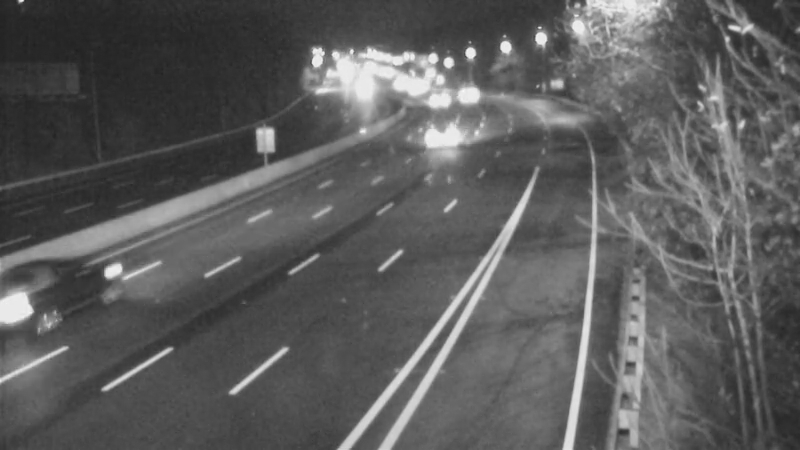vehicle: (6, 245, 86, 325), (444, 68, 494, 118), (411, 70, 461, 120), (413, 108, 463, 158), (344, 67, 394, 117)
